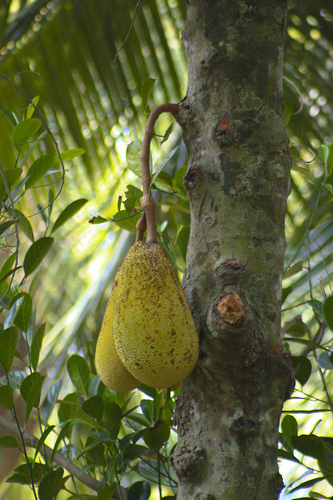jackfruit: (111, 236, 200, 390)
